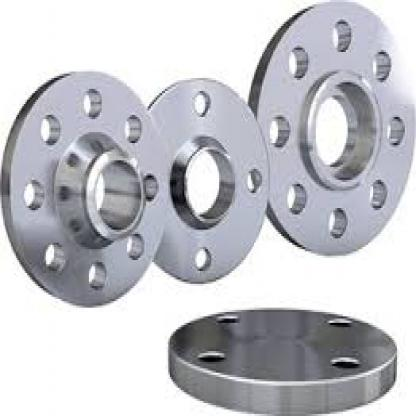FOD: (0, 66, 172, 320), (248, 11, 414, 264), (122, 77, 272, 287), (156, 307, 400, 415)
